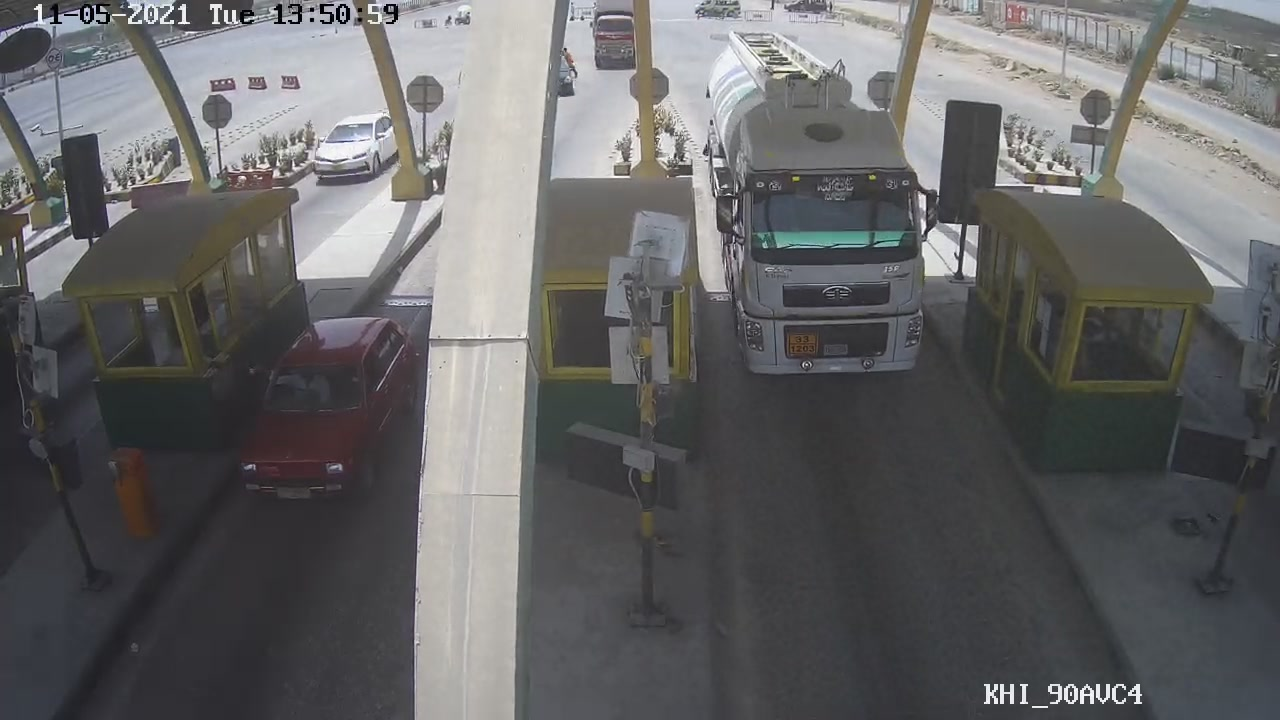F6: (704, 47, 941, 382)
